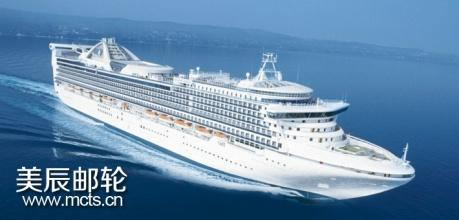youlun: (45, 22, 416, 203)
